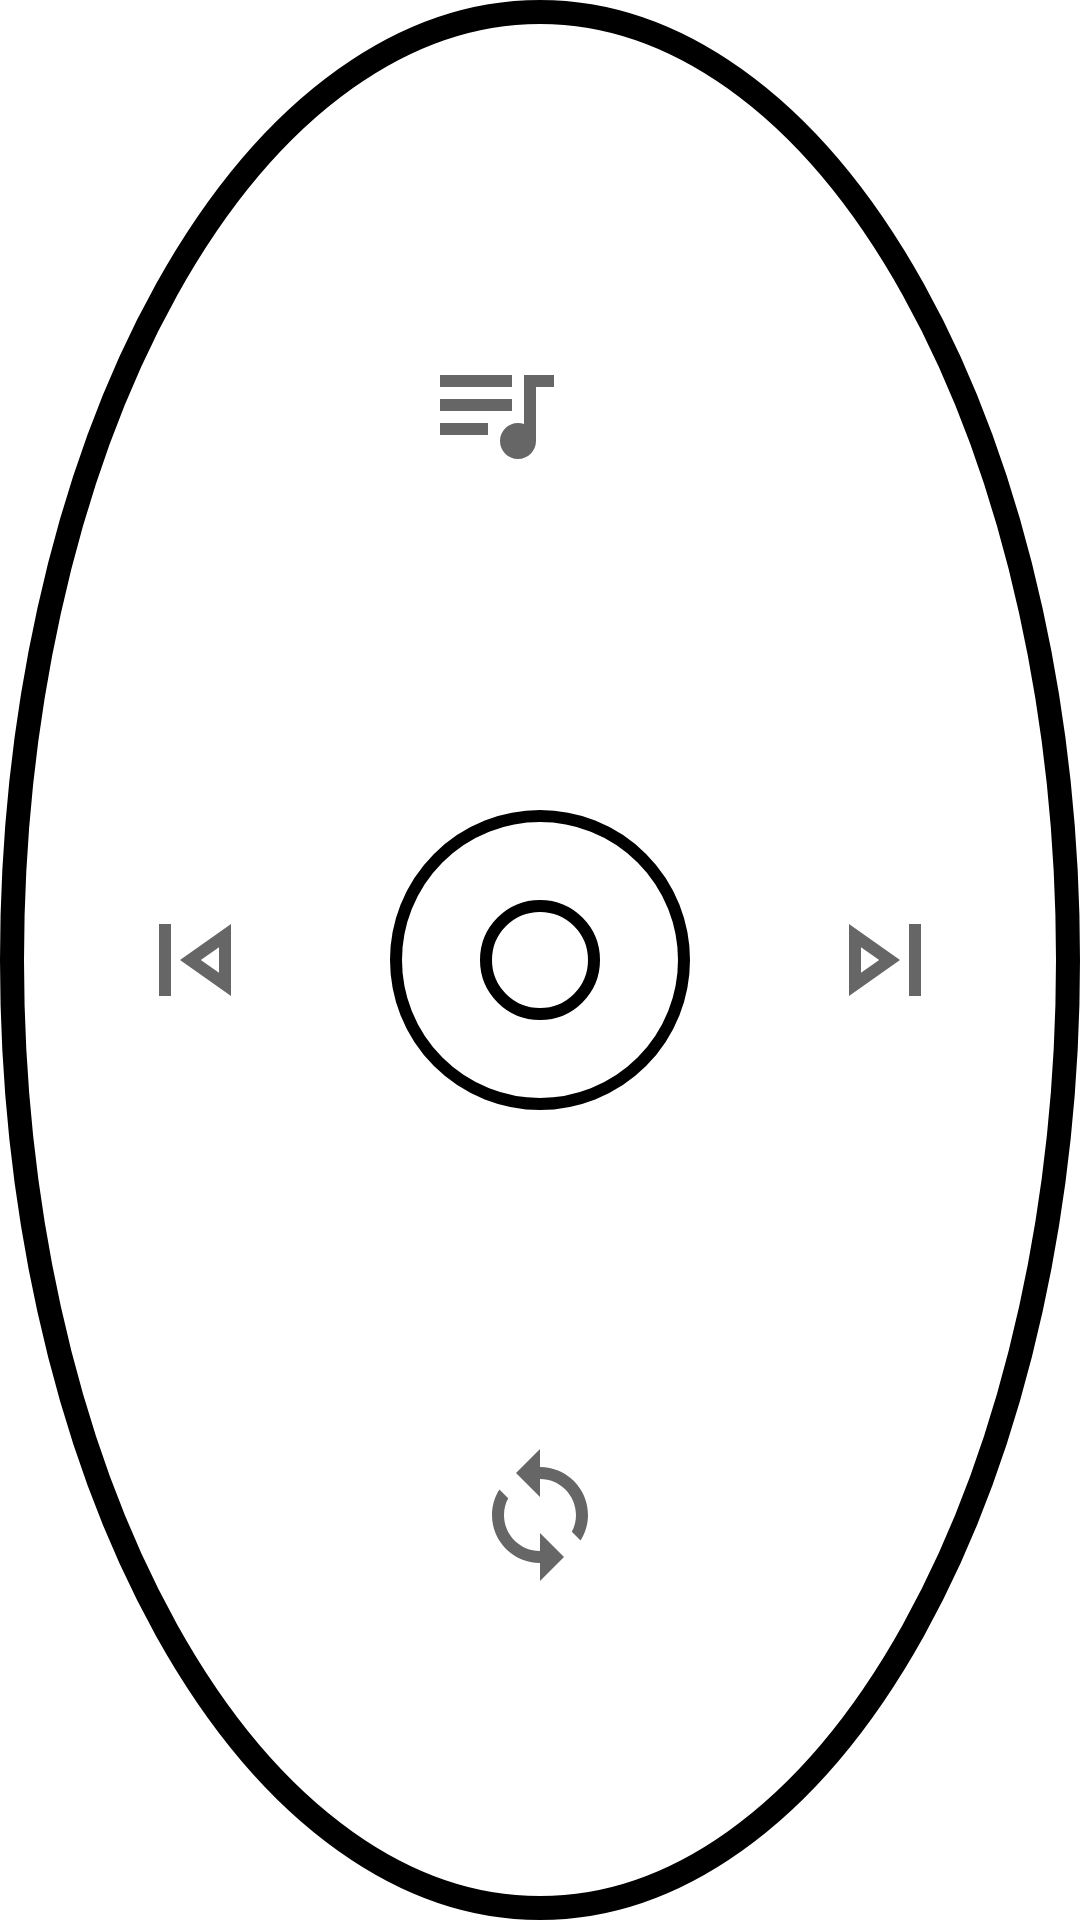

Icons on this 1080*1920 Android screen, each with the point to tap as point (x, y):
loop: point (540, 1515)
queue music: point (497, 417)
skip next: point (885, 960)
skip previous: point (195, 960)
